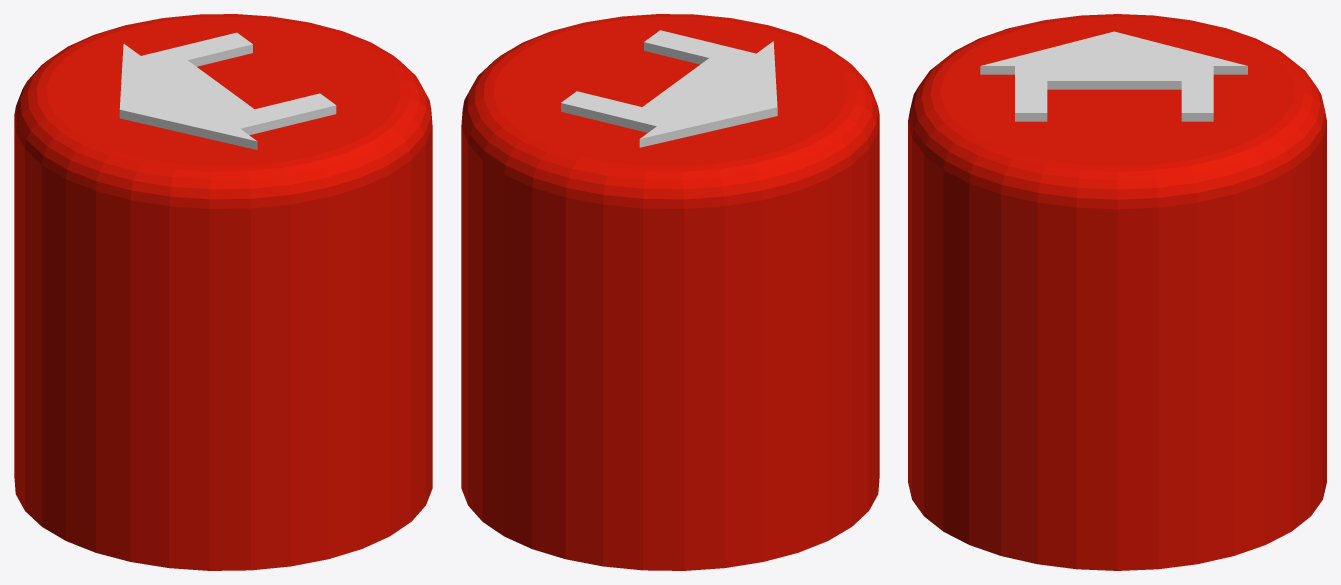
File: button_home.fbx
3 views of the same model, side by side, from view 1: azimuth 30°, elevation 25°; view 2: azimuth 150°, elevation 25°; view 3: azimuth 270°, elevation 25° (orthographic).
Parts seen in each view (by area): view 1: Cylinder.007; view 2: Cylinder.007; view 3: Cylinder.007.
Part boxes in pixels (x1,y1,x2,y2): Cylinder.007: (14, 14, 432, 570); Cylinder.007: (461, 14, 879, 570); Cylinder.007: (908, 14, 1326, 570).
Size of the model in its own units: 50.02 by 52.64 by 50.02.
